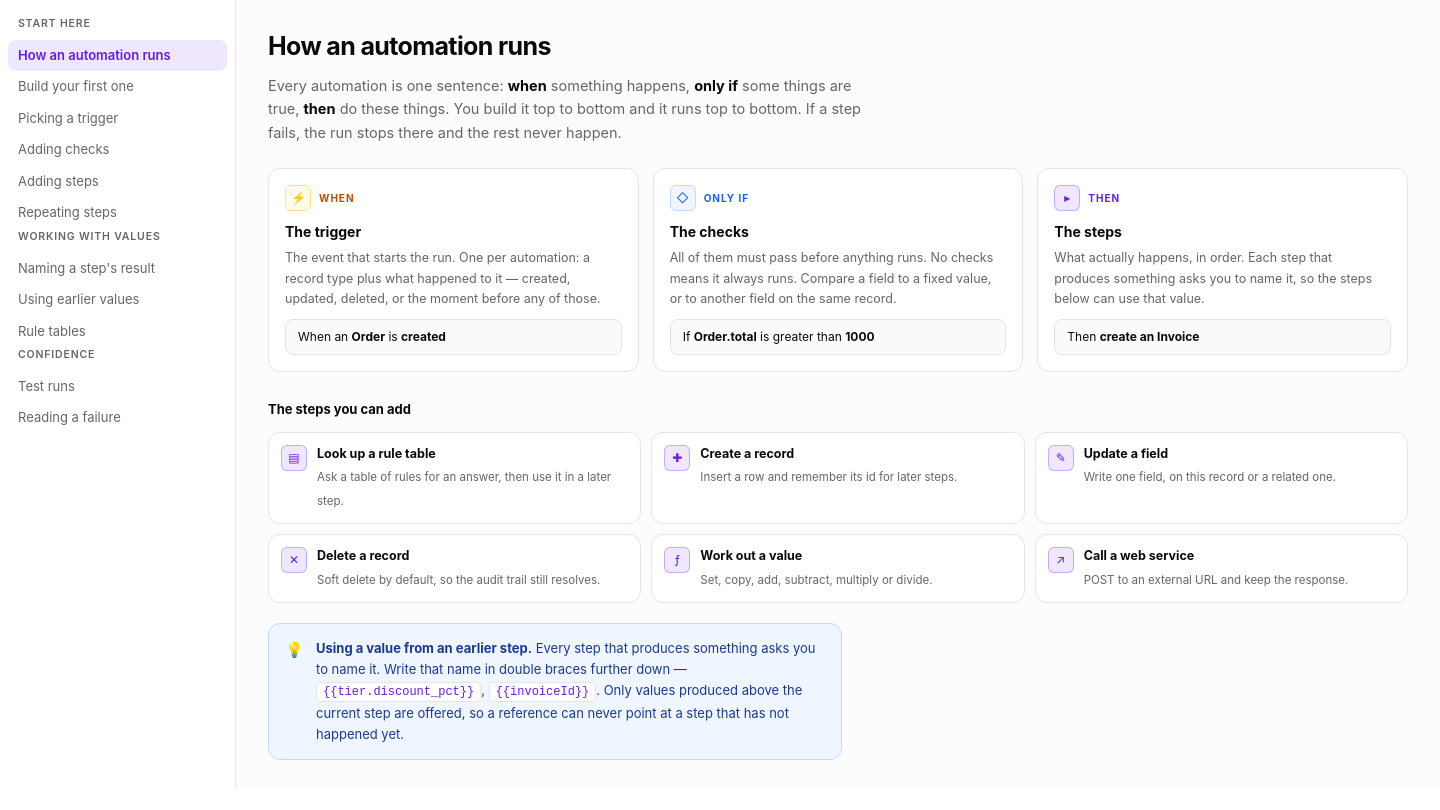
Test case: AutomationHelp › moves between topics
Click the button "Reading a failure". click: (118, 418)
box: 8,402 -> 227,434
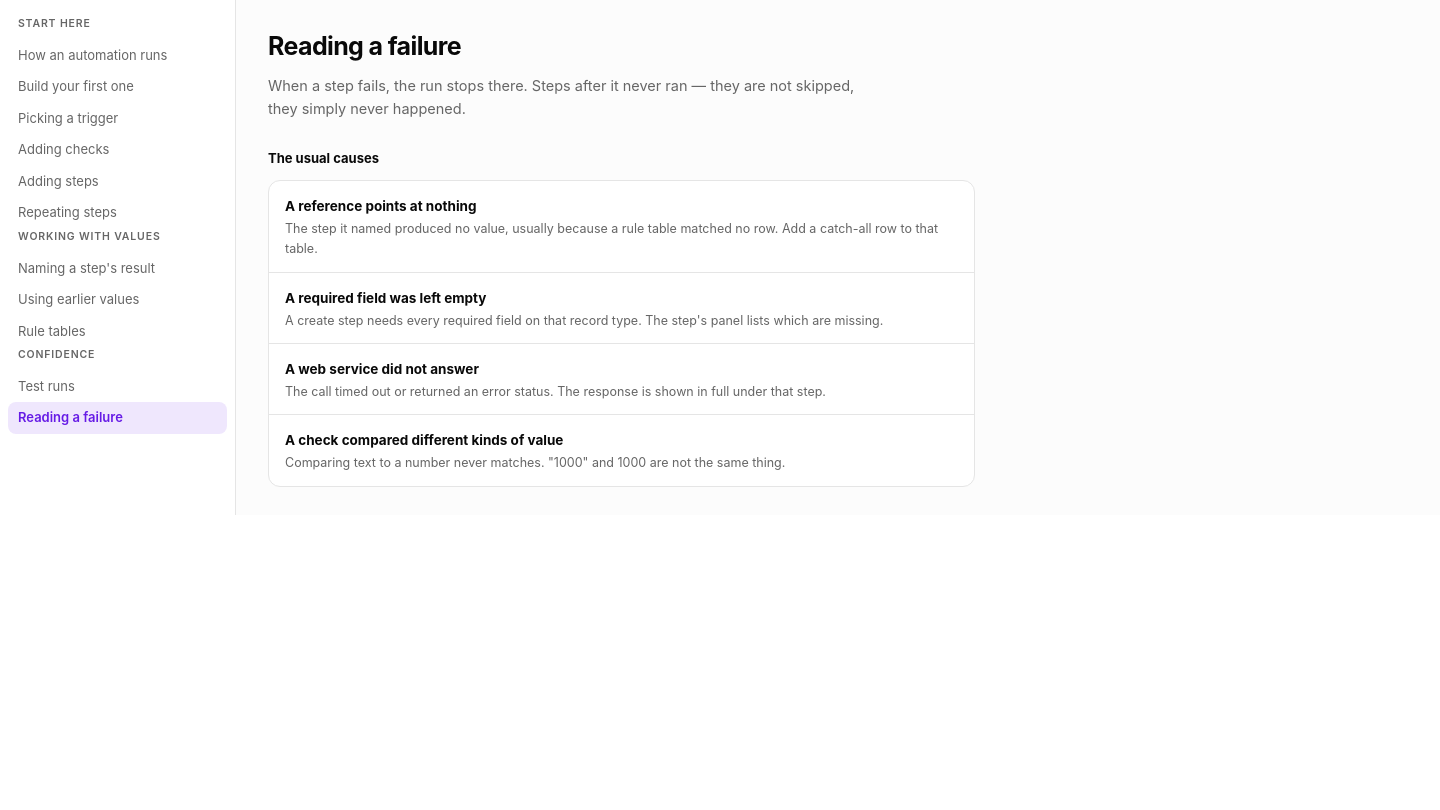
Result: the heading "Reading a failure" is shown at 268,31 -> 461,61
Result: the text "A reference points at nothing" is shown at 285,198 -> 476,214
